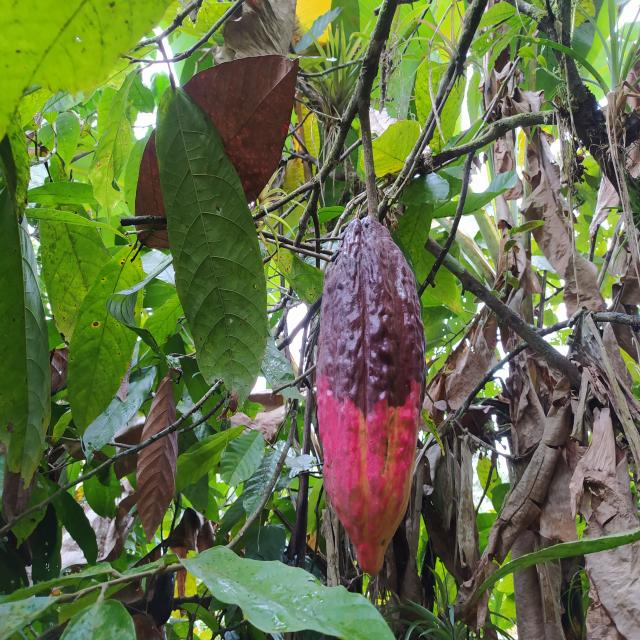Fitoftora: (316, 216, 426, 577)
